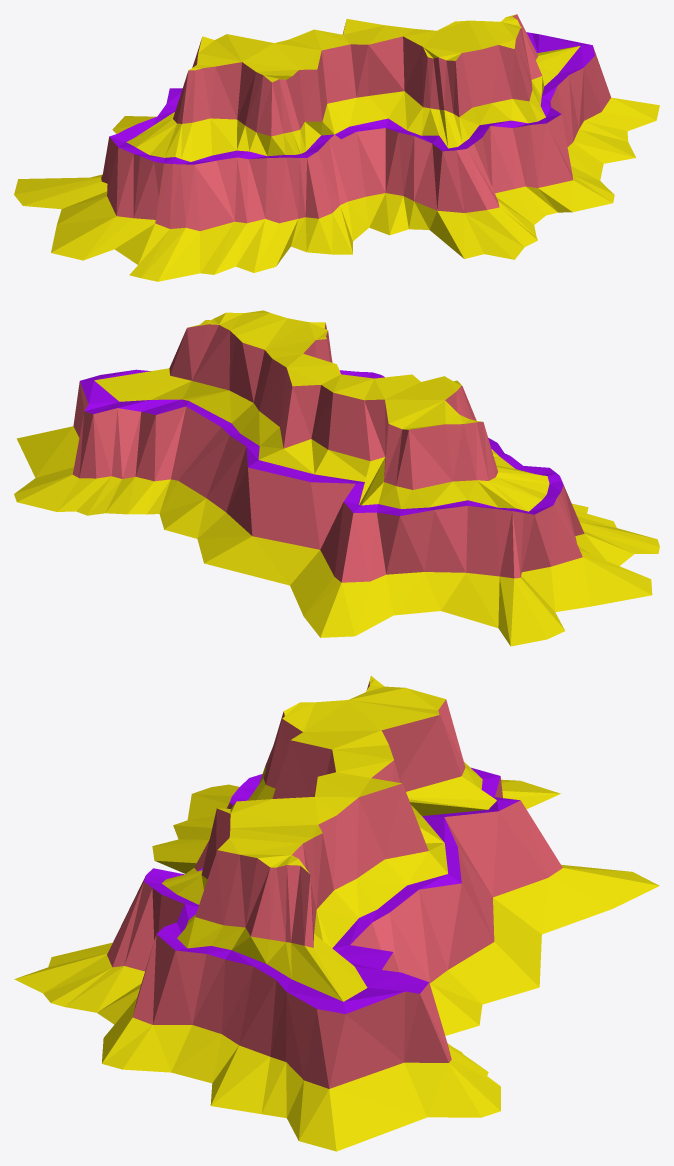
File: decoration-mountains.fbx
3 views of the same model, one above another, from view 1: azimuth 30°, elevation 25°; view 2: azimuth 150°, elevation 25°; view 3: azimuth 270°, elevation 25° (orthographic). The views are drawn at different scales.
Parts seen in each view (by area): view 1: decoration-mountains; view 2: decoration-mountains; view 3: decoration-mountains.
Boxes of the visible parts, <box> form: decoration-mountains: <box>14,14,659,281</box>; decoration-mountains: <box>14,310,659,646</box>; decoration-mountains: <box>14,676,659,1151</box>.
Size of the model in its own units: 89.67 by 20.16 by 62.58.
